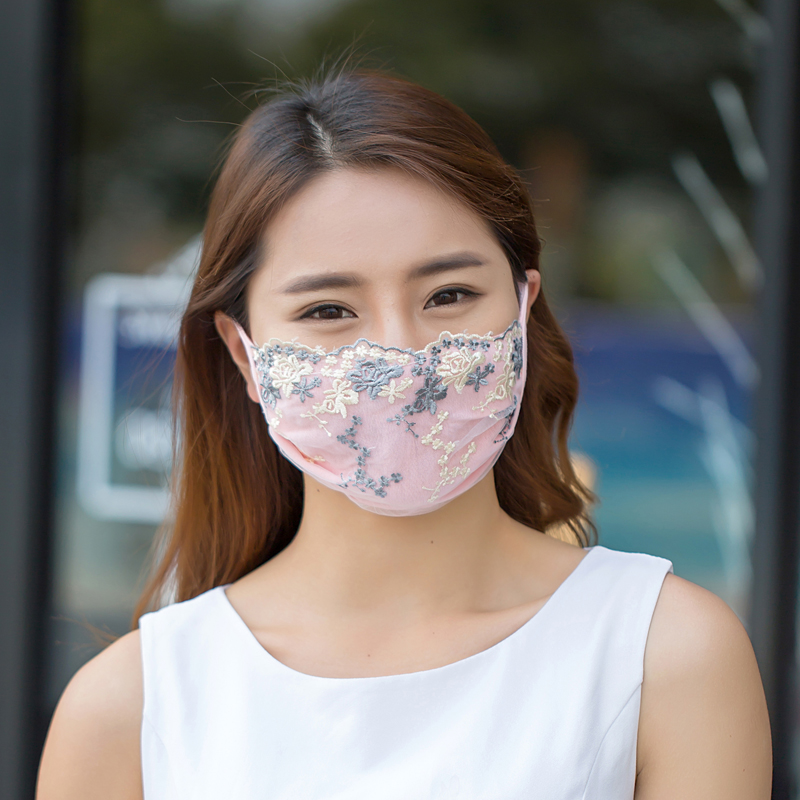face_mask: (252, 164, 519, 508)
